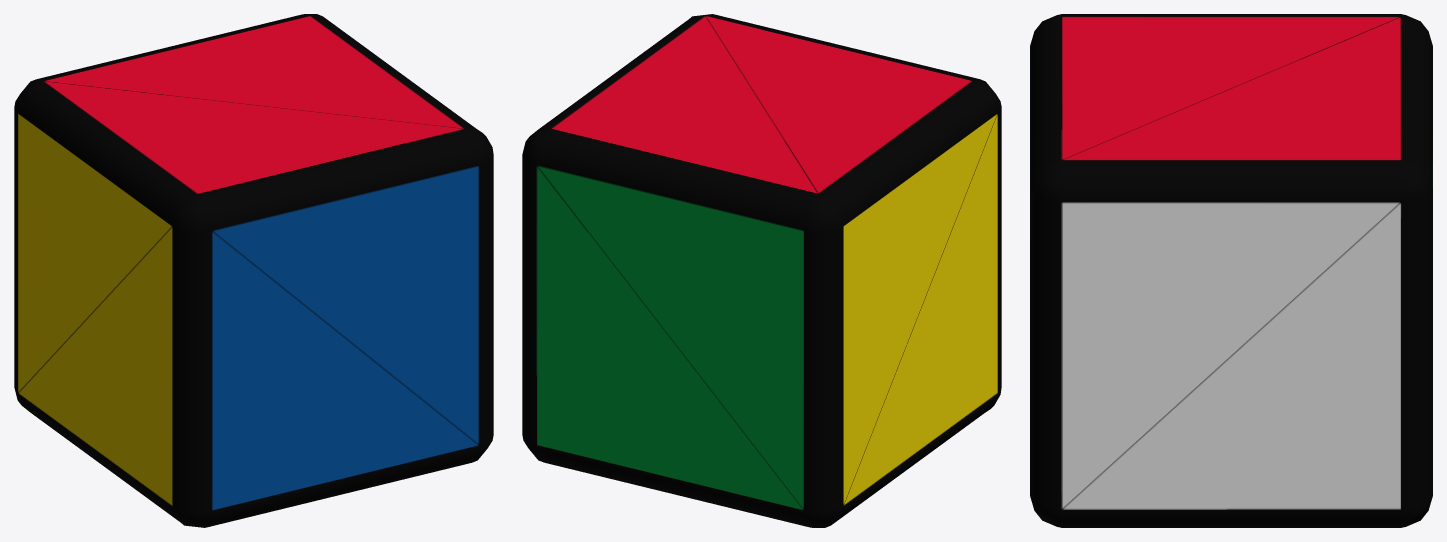
The model's file is cubeUV.obj.
3 views of the same model, side by side, from view 1: azimuth 30°, elevation 25°; view 2: azimuth 150°, elevation 25°; view 3: azimuth 270°, elevation 25° (orthographic). The views are drawn at different scales.
Parts seen in each view (by area): view 1: cube; view 2: cube; view 3: cube.
Boxes of the visible parts, left/top/right/bottom form: cube: left=14, top=14, right=493, bottom=527; cube: left=522, top=14, right=1001, bottom=527; cube: left=1030, top=14, right=1432, bottom=527.
Size of the model in its own units: 19 by 19 by 19.
